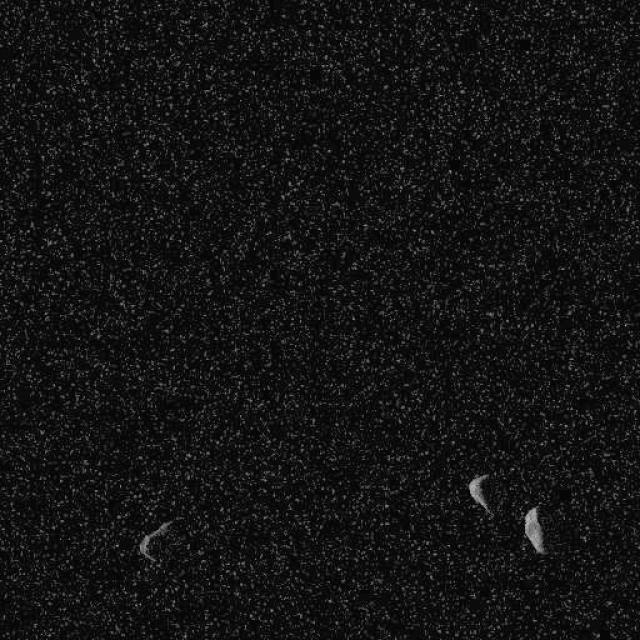D2: (138, 515, 178, 563), (466, 472, 494, 516), (522, 505, 546, 555)
